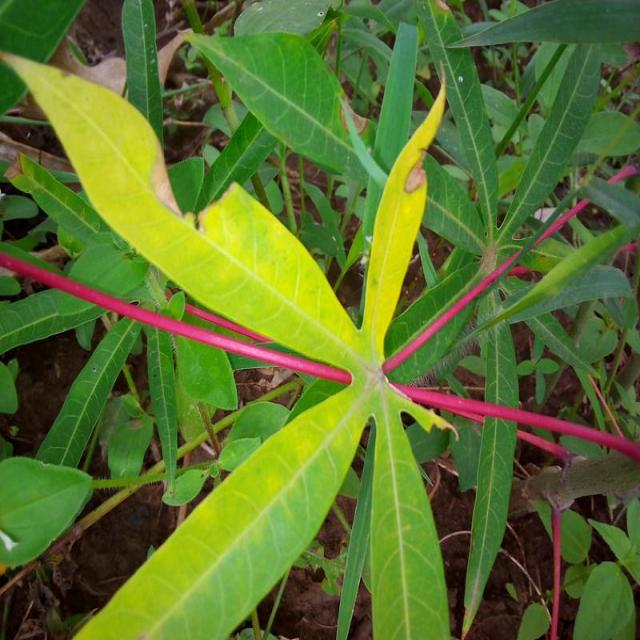cassava leaf: (3, 3, 636, 638), (70, 374, 372, 639)
